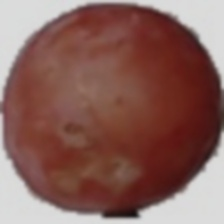grapes: (17, 8, 200, 190)
